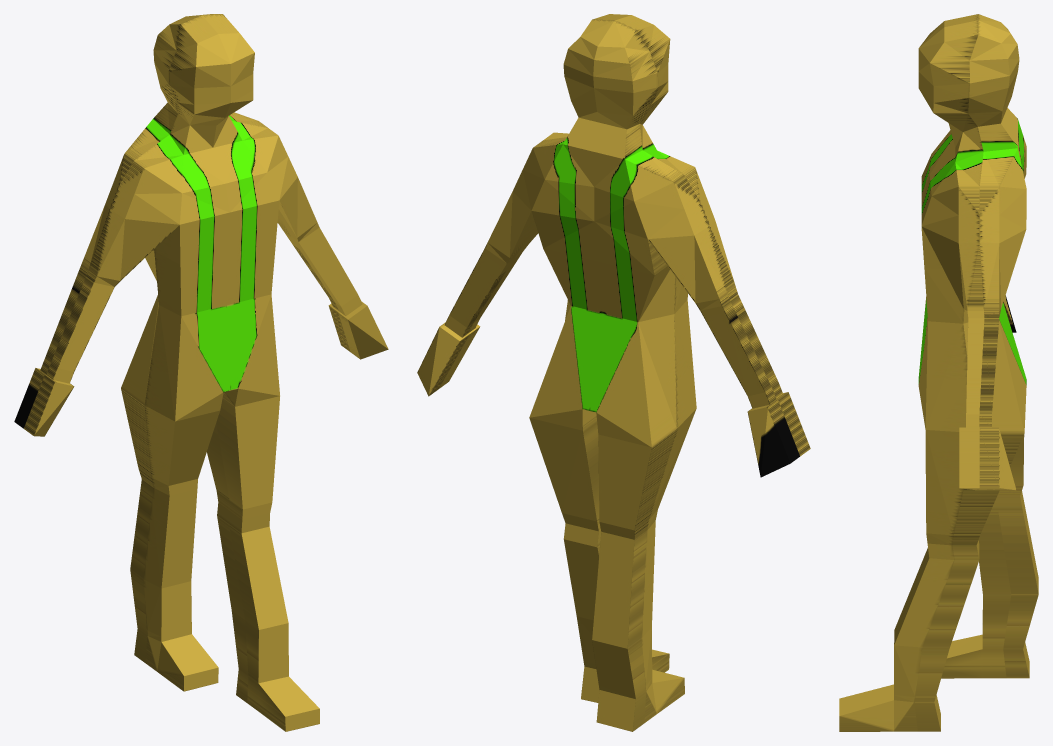
3 renders of one model, left to right at view 1: azimuth 30°, elevation 25°; view 2: azimuth 150°, elevation 25°; view 3: azimuth 270°, elevation 25°, orthographic. The views are drawn at different scales.
Parts seen in each view (by area): view 1: Borat; view 2: Borat; view 3: Borat.
Part boxes in pixels (x1,y1,x2,y2): Borat: (14,14,388,731); Borat: (417,14,810,731); Borat: (839,14,1038,731).
Bounding box in the file's own units: 1.79 × 3.23 × 0.8509.
